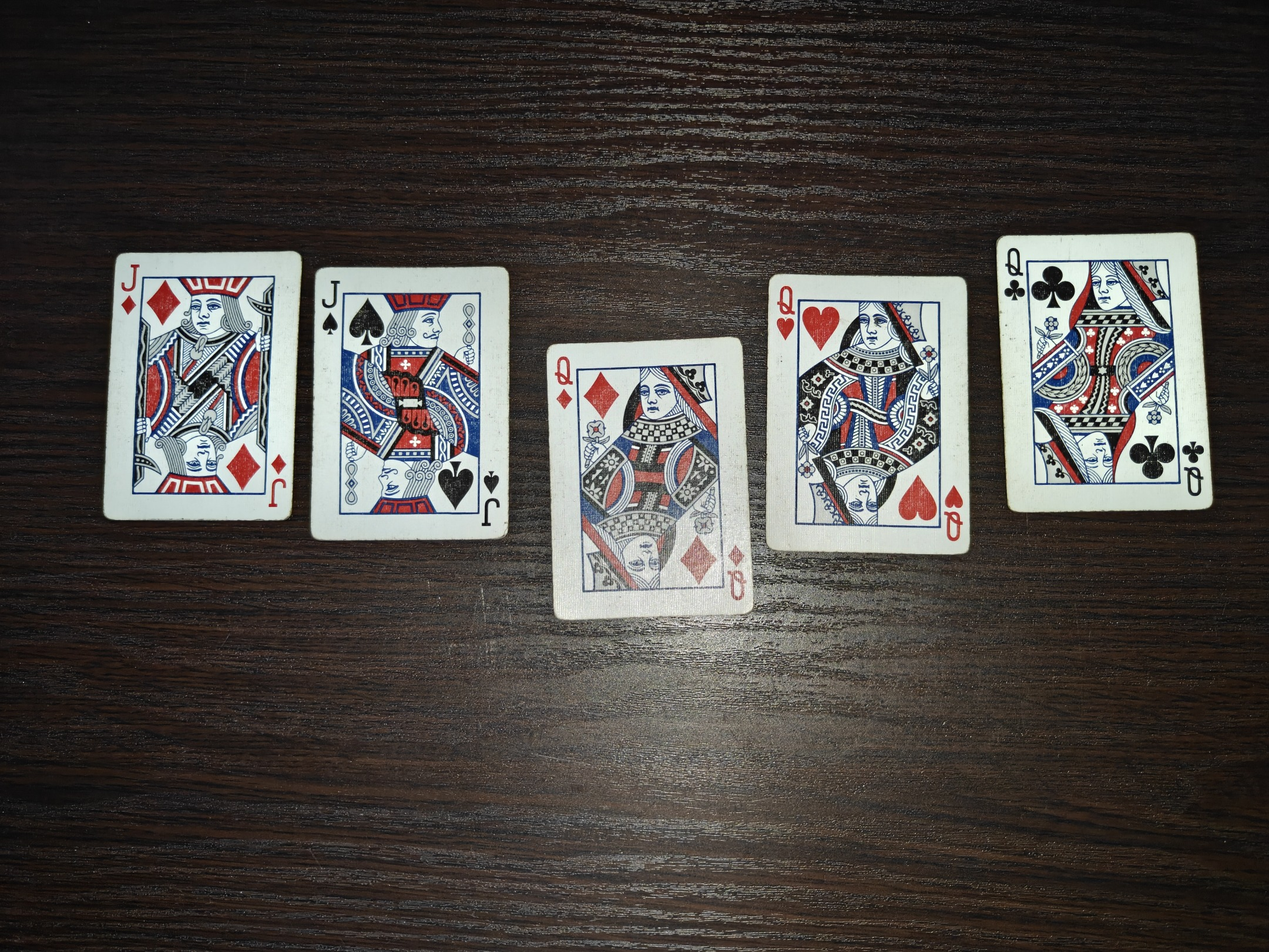JD: (101, 250, 302, 521)
JS: (310, 262, 513, 541)
QC: (996, 231, 1216, 514)
QD: (543, 333, 756, 620)
QH: (764, 271, 972, 558)
